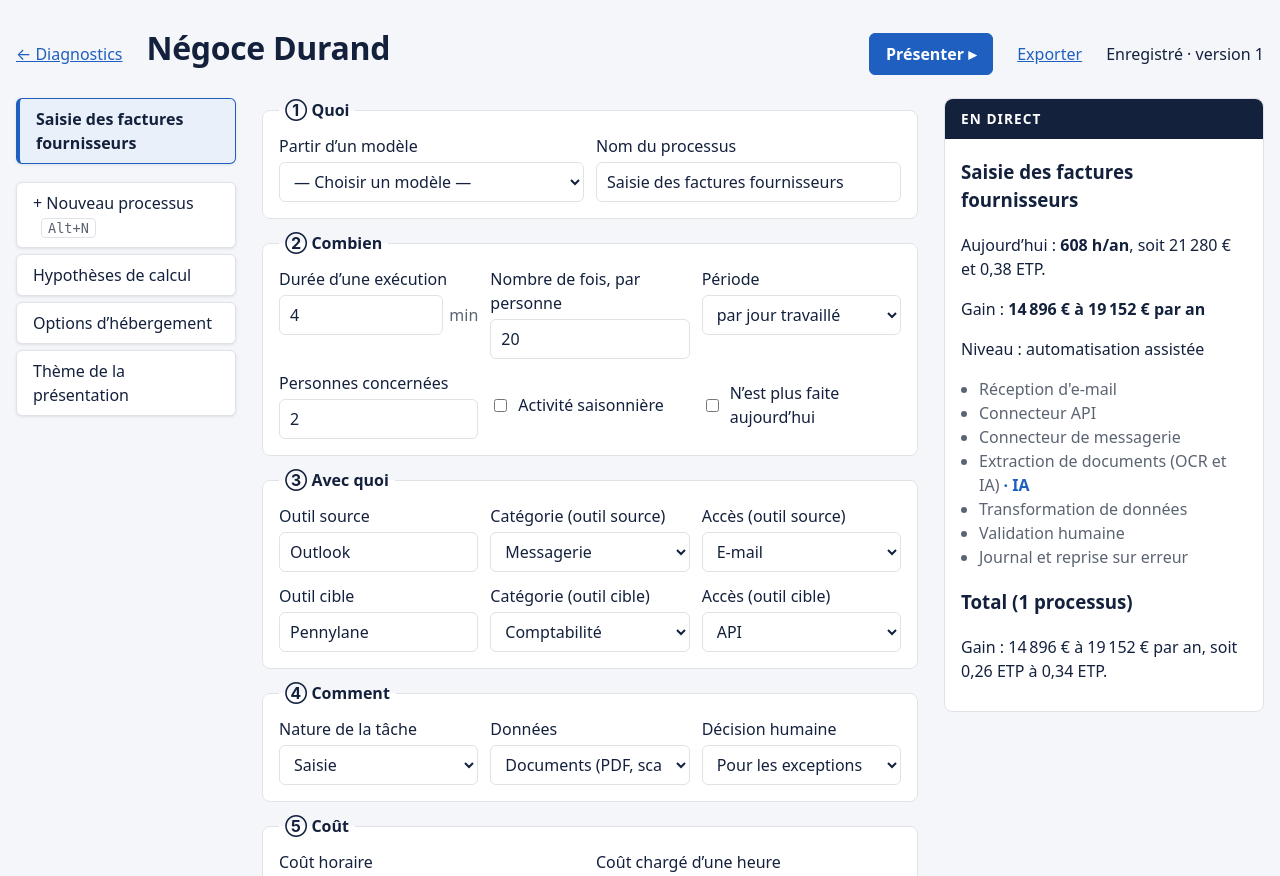
Test: Entretien › ne propose plus d’option au-delà de trois
Expected: the heading "Négoce Durand" is shown, [146,26,390,69]
Click the button "Options d’hébergement" at (126, 323), box [16,302,236,344]
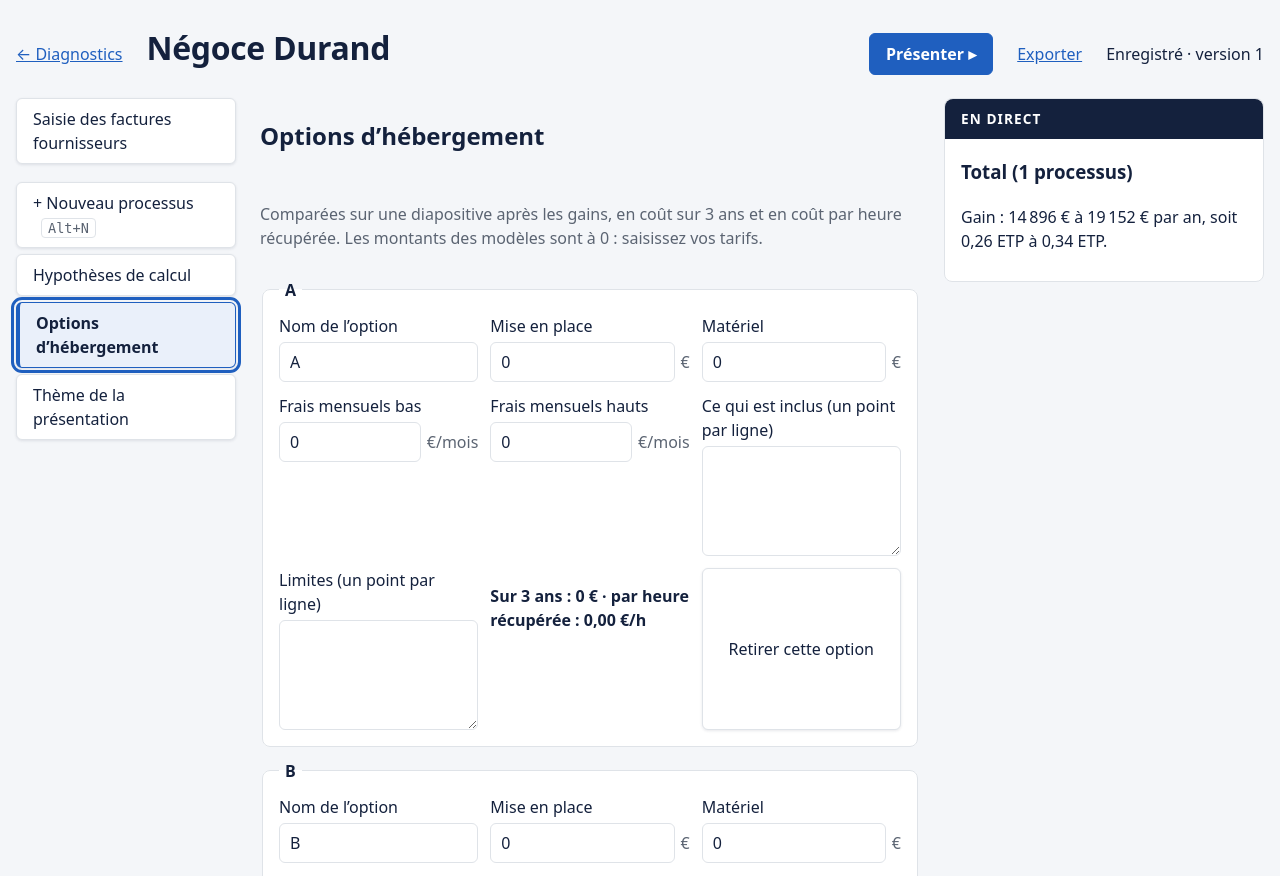
Expected: the number of buttons "Retirer cette option" is 3
